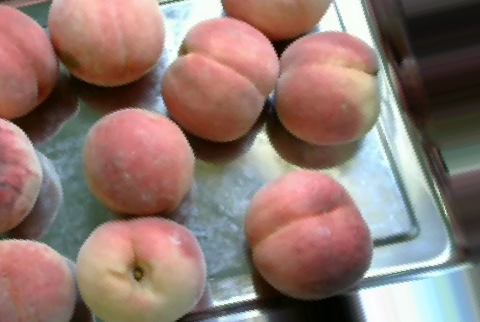Peach: (246, 169, 371, 297), (161, 17, 276, 142), (77, 216, 205, 321), (272, 30, 381, 145), (84, 107, 193, 216), (49, 0, 164, 84), (0, 235, 78, 322), (0, 3, 57, 117)
